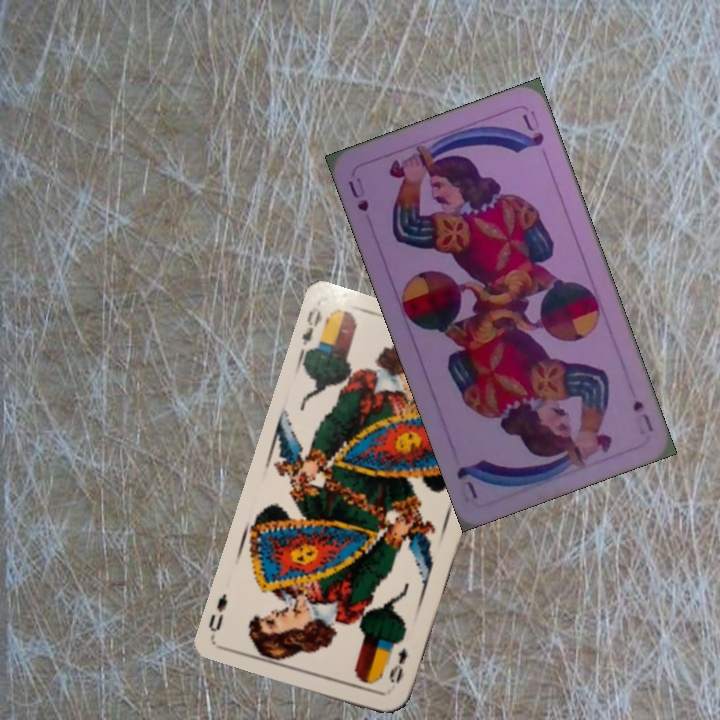EO: (295, 303, 331, 360), (384, 644, 410, 687)
SU: (628, 395, 656, 434), (344, 176, 372, 214)
